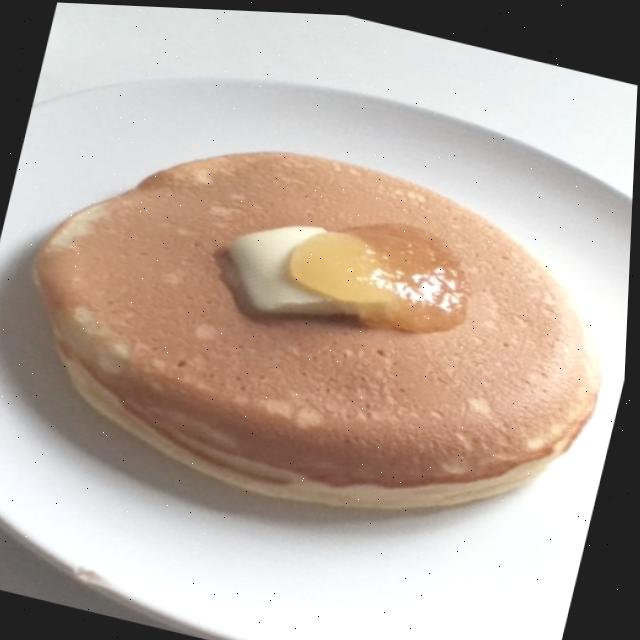汉堡快餐: (33, 23, 572, 566)
